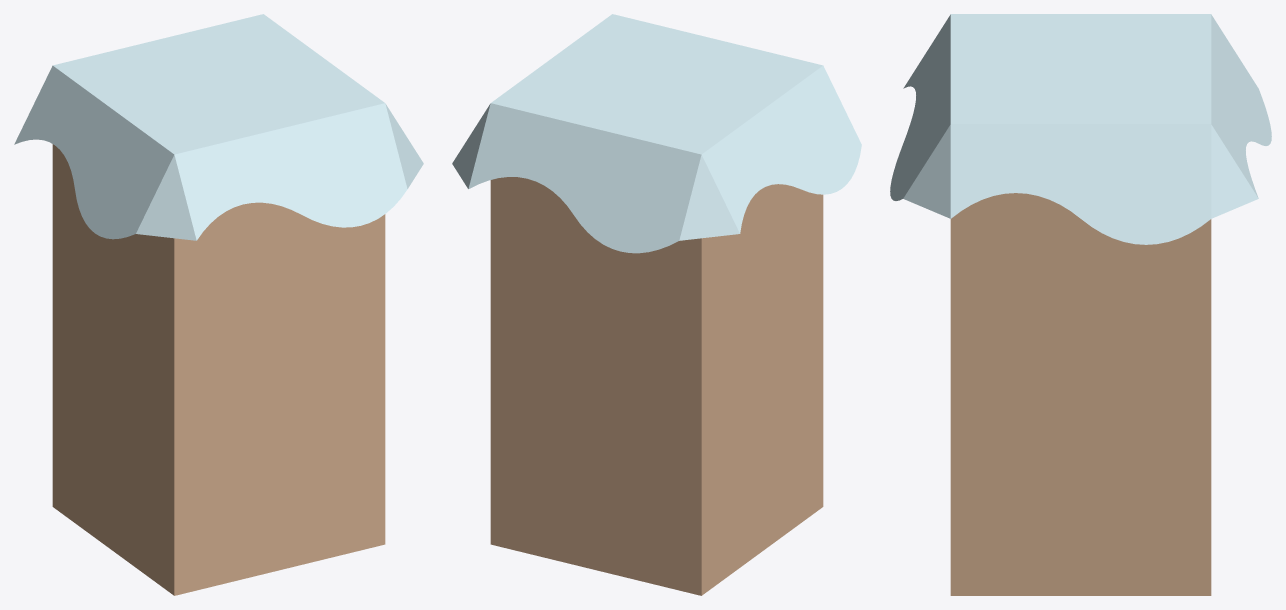
The model's file is blockSnowQuarter.glb.
3 renders of one model, left to right at view 1: azimuth 30°, elevation 25°; view 2: azimuth 150°, elevation 25°; view 3: azimuth 270°, elevation 25°, orthographic. The views are drawn at different scales.
Parts seen in each view (by area): view 1: blockSnowQuarter; view 2: blockSnowQuarter; view 3: blockSnowQuarter.
Boxes of the visible parts, <box> form: blockSnowQuarter: <box>14,14,423,595</box>; blockSnowQuarter: <box>452,14,861,595</box>; blockSnowQuarter: <box>890,14,1271,595</box>.
Size of the model in its own units: 0.733 by 1 by 0.733.
